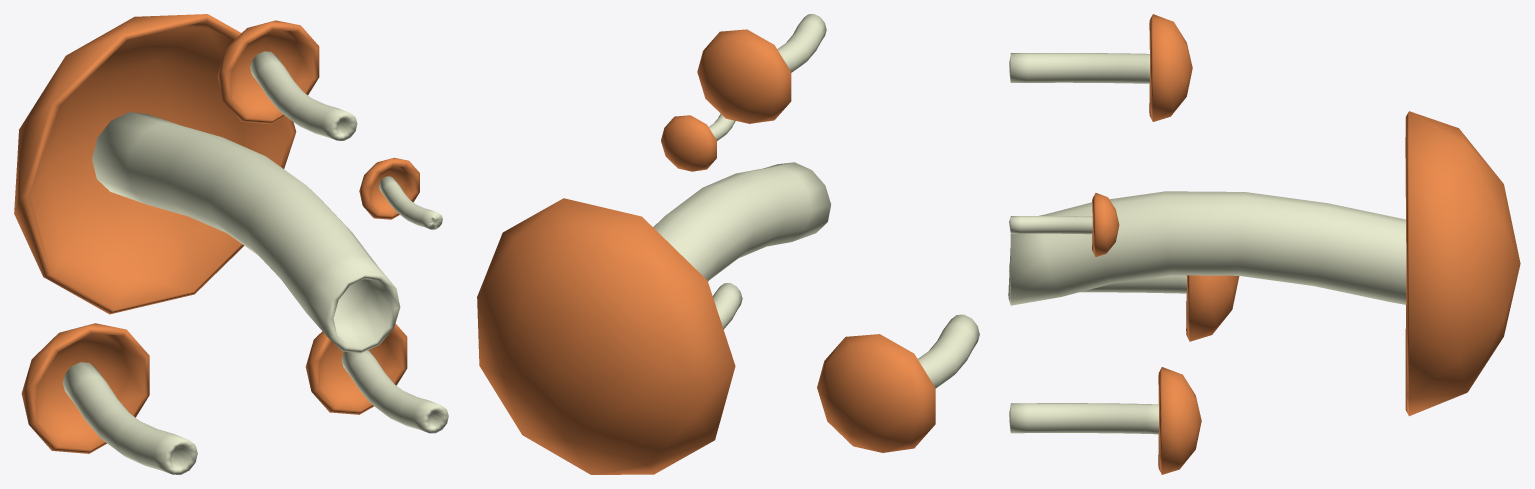
Rendered from BrownMushrooms.fbx.
3 views of the same model, side by side, from view 1: azimuth 30°, elevation 25°; view 2: azimuth 150°, elevation 25°; view 3: azimuth 270°, elevation 25° (orthographic). The views are drawn at different scales.
Visible parts, largest first — view 1: Icosphere.053; view 2: Icosphere.053; view 3: Icosphere.053.
Part boxes in pixels (box(x1,y1,x2,y2)): Icosphere.053: box(14, 14, 448, 474); Icosphere.053: box(477, 14, 979, 474); Icosphere.053: box(1008, 14, 1520, 474).
Bounding box in the file's own units: 168 × 176 × 201.
